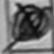not correct: (7, 1, 53, 51)
